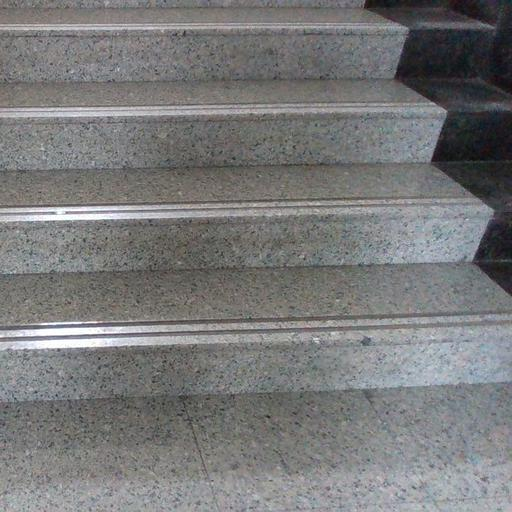stairs: (0, 0, 511, 400)
